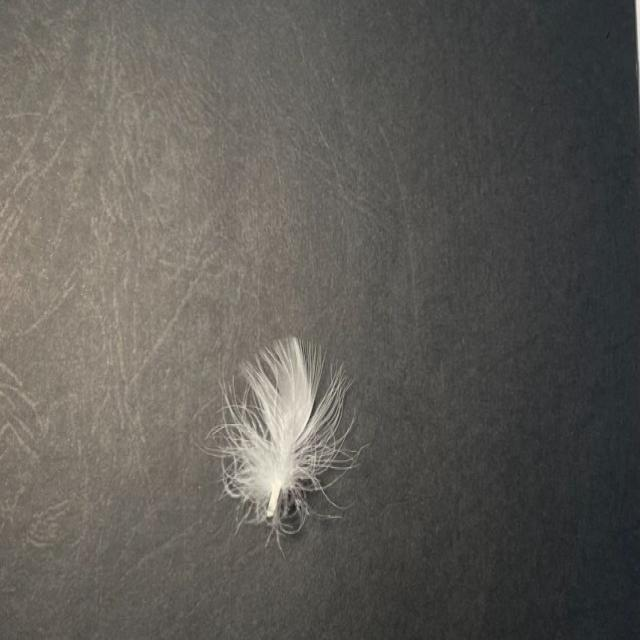feather: (192, 330, 365, 541)
